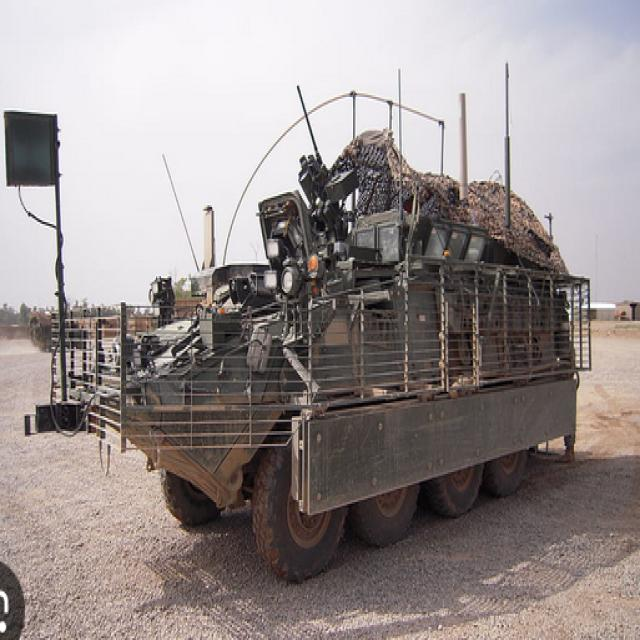MIL_APC: (73, 159, 609, 584)
